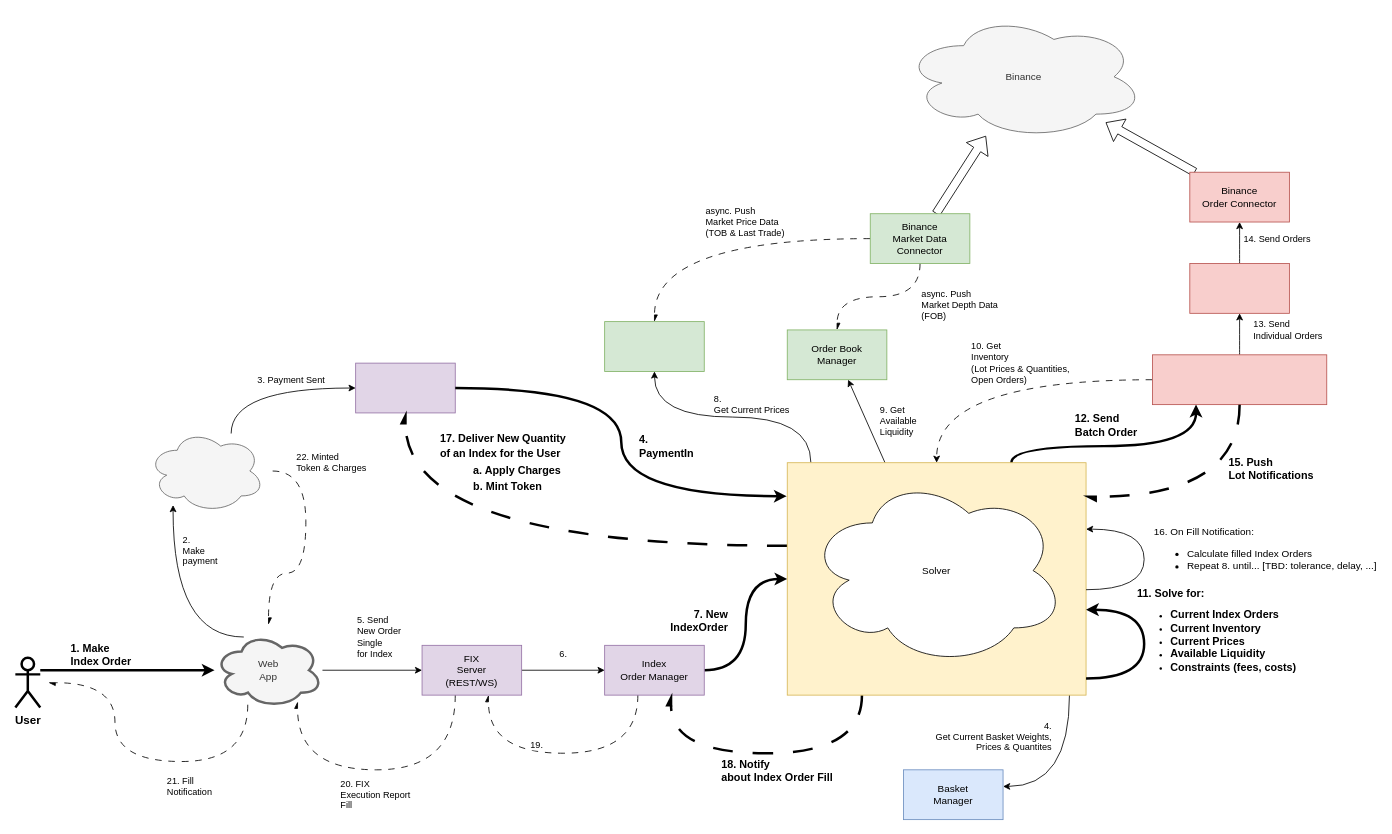
This 1392x834 diagram has some shape labels left out. The shapes that lost their labels are listed below. From the top down, each one's centre as x and y in pixels, then its label:
At (1239,288): "Order Tracker".
At (654,346): "Price Tracker".
At (405,387): "EVM Connector".
At (1239,379): "Inventory Manager".
At (205,471): "Smart Contracts".
